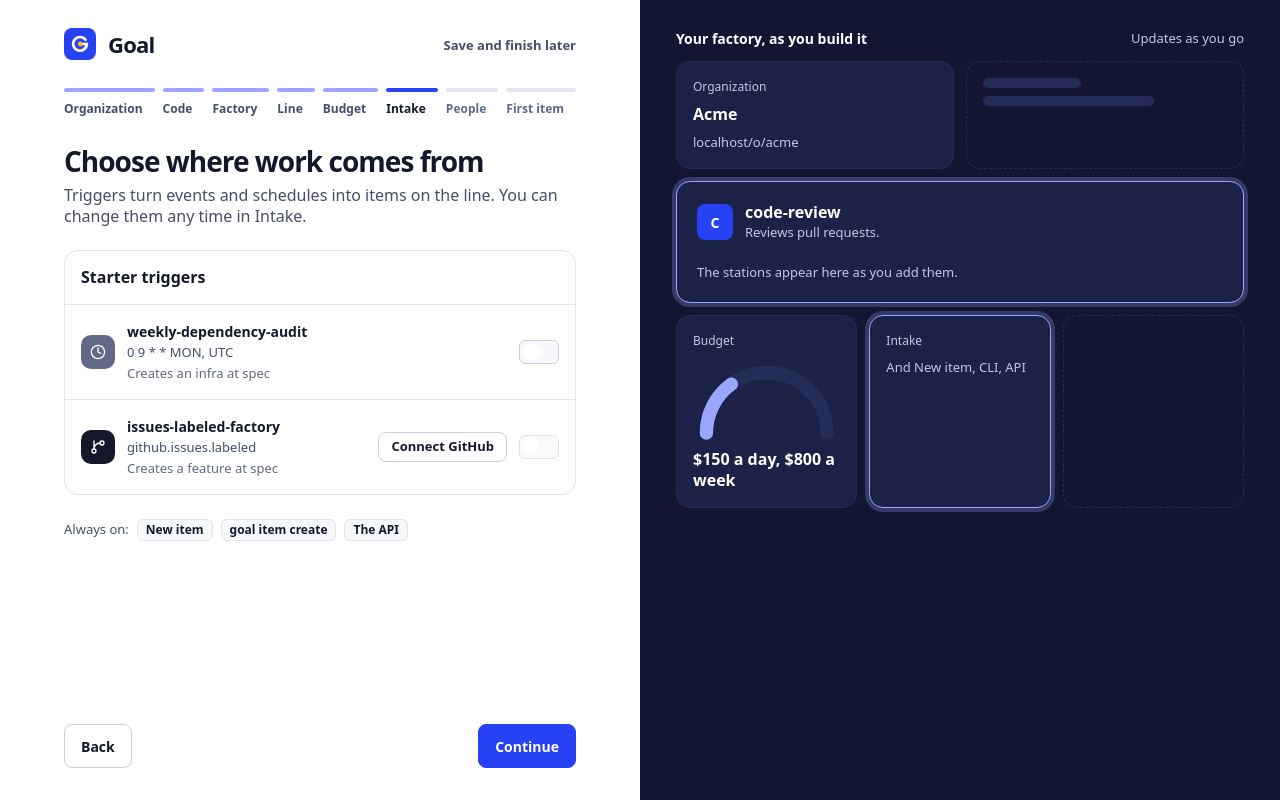
Test case: step 6, choose where work comes from › reads the panel’s Intake card from the switches, as they are switched
Click the switch named "weekly-dependency-audit".
click(539, 352)  # box [519,340,559,364]
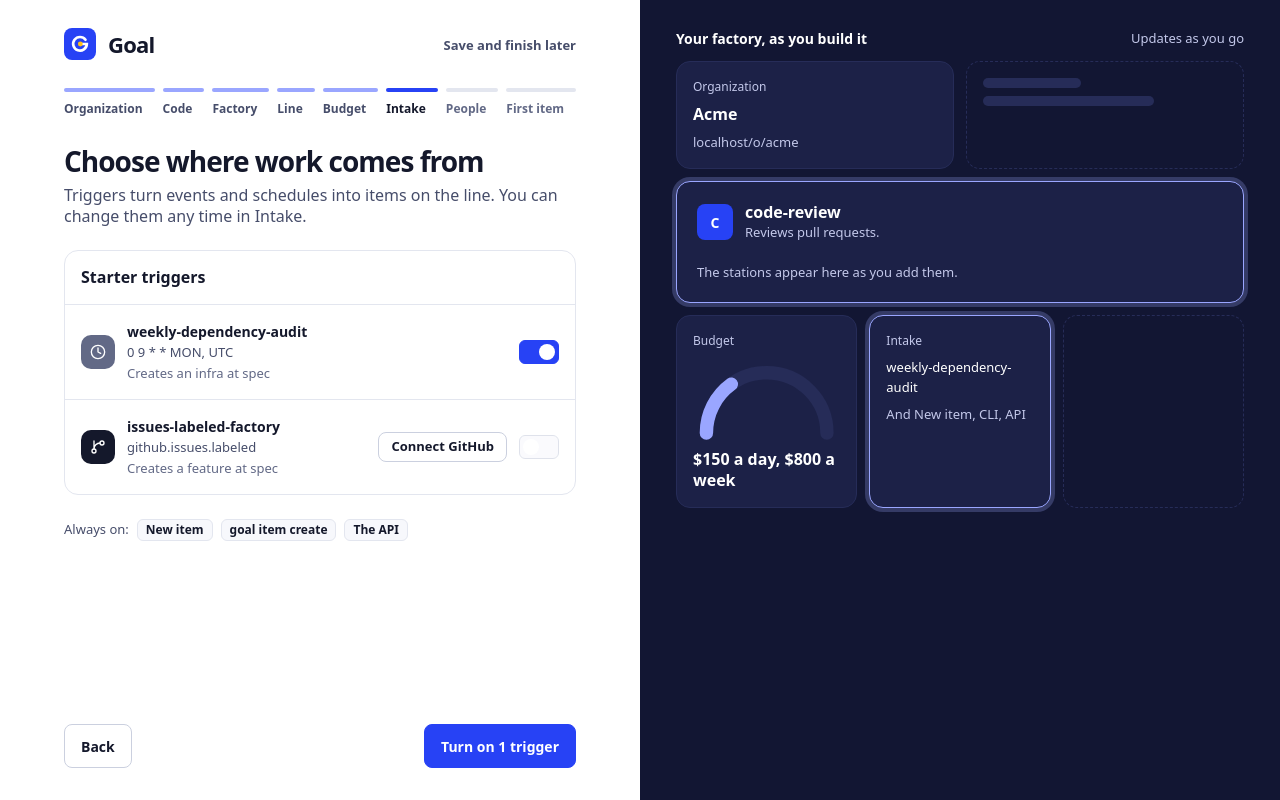
Check: the text "And New item, CLI, API" is shown, box [886,405,1034,425]
Check: the list item "weekly-dependency-audit" is shown, box [886,358,1011,396]
